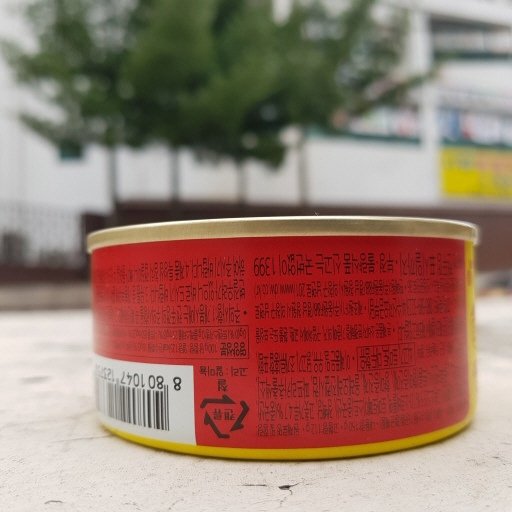Metal_1: (81, 213, 483, 460)
